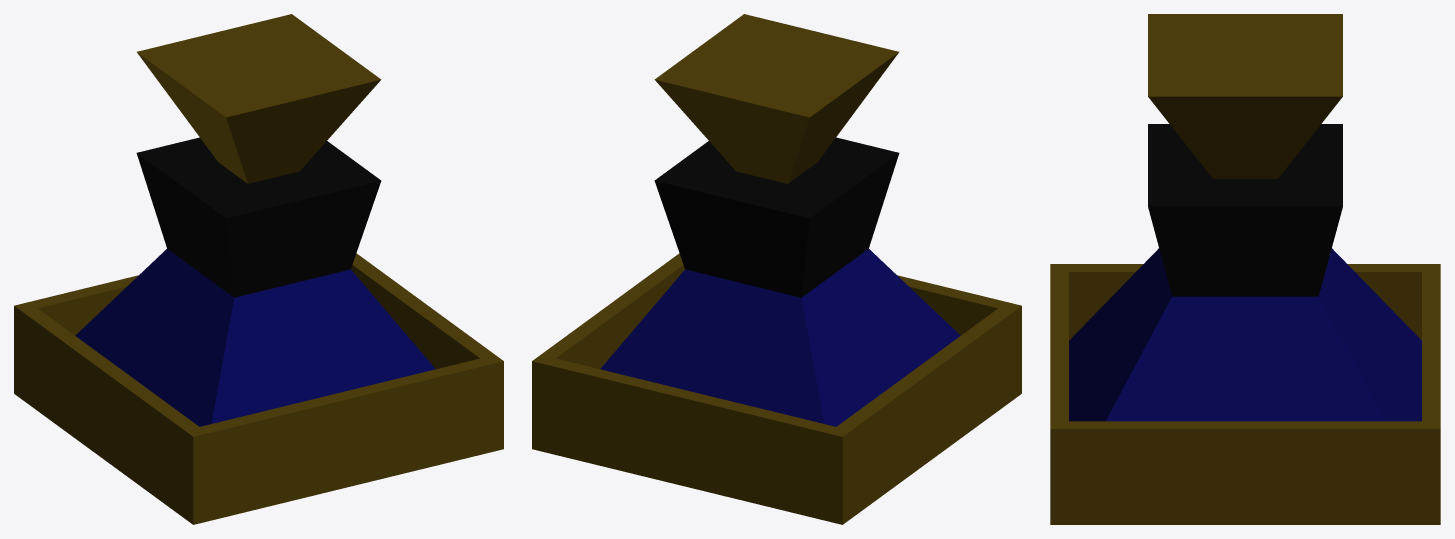
Rendered from skin_4_1_model.fbx.
3 renders of one model, left to right at view 1: azimuth 30°, elevation 25°; view 2: azimuth 150°, elevation 25°; view 3: azimuth 270°, elevation 25°, orthographic. The views are drawn at different scales.
Parts seen in each view (by area): view 1: Cube; view 2: Cube; view 3: Cube.
Boxes of the visible parts, x1=… form: Cube: x1=14, y1=14, x2=503, y2=524; Cube: x1=532, y1=14, x2=1021, y2=524; Cube: x1=1050, y1=14, x2=1440, y2=524.
Size of the model in its own units: 200 by 219 by 200.
